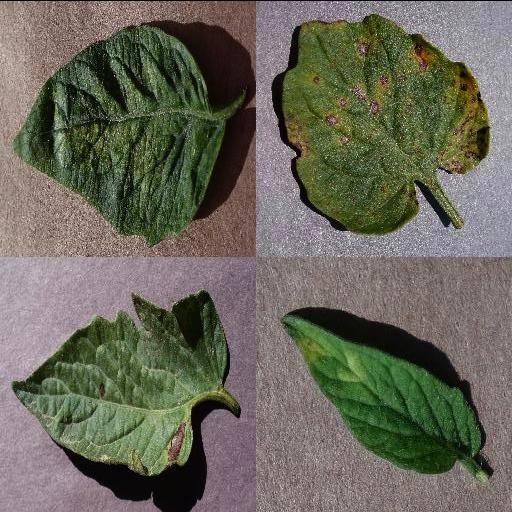Early Blight: (11, 287, 227, 475)
Leaf Mold: (281, 311, 483, 473)
Septoria: (279, 13, 491, 235)
Spider Mites: (11, 22, 225, 244)
